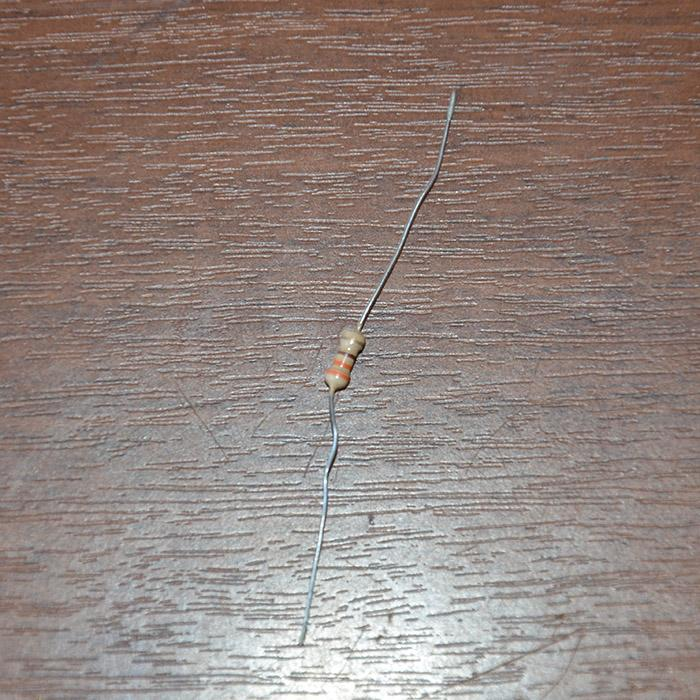resistor: (326, 328, 366, 393)
